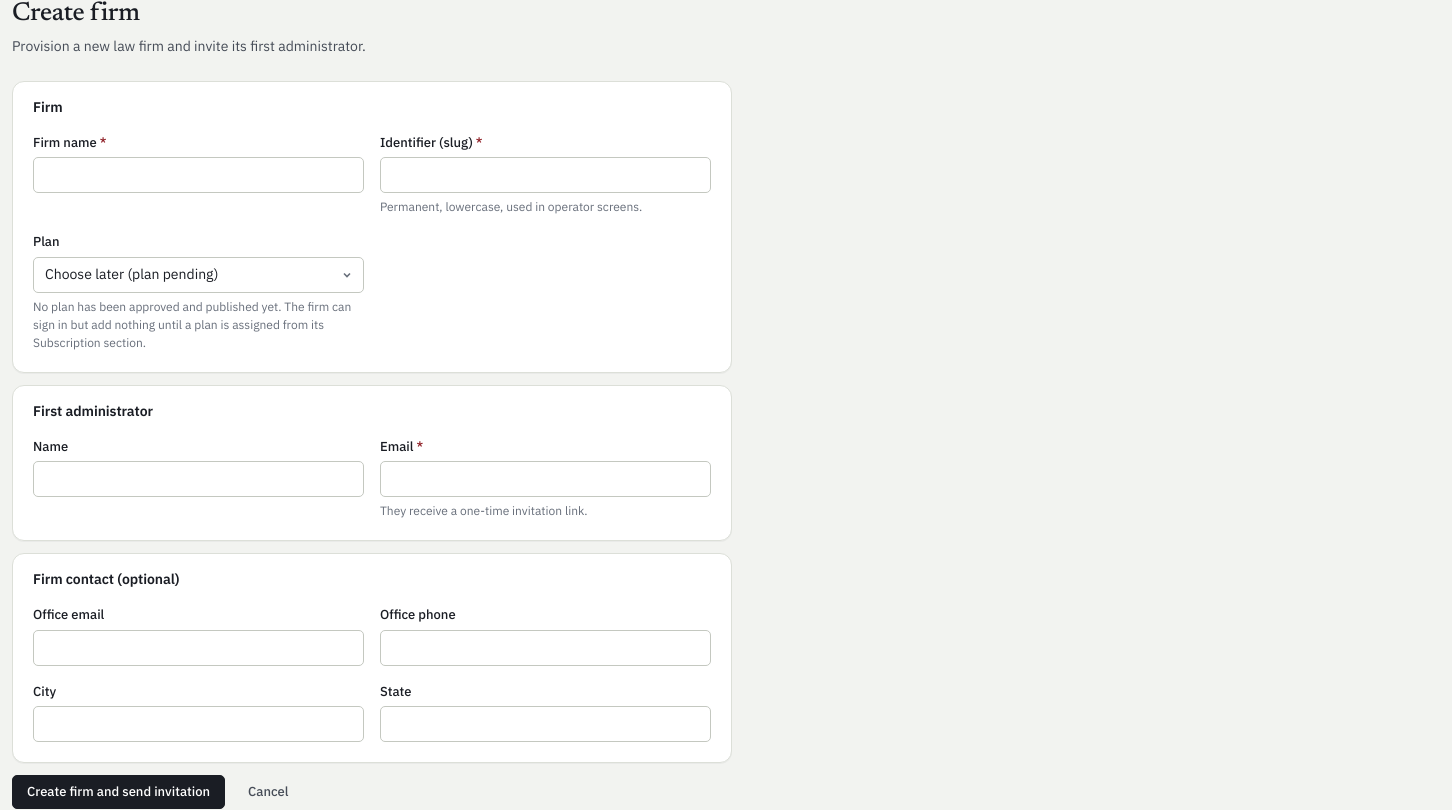
Test: FirmCreate › sends one Idempotency-Key and reuses it when retrying
Type "Kumar" into the field labelled "Firm name *" at (198, 175), box 33,157 -> 364,193
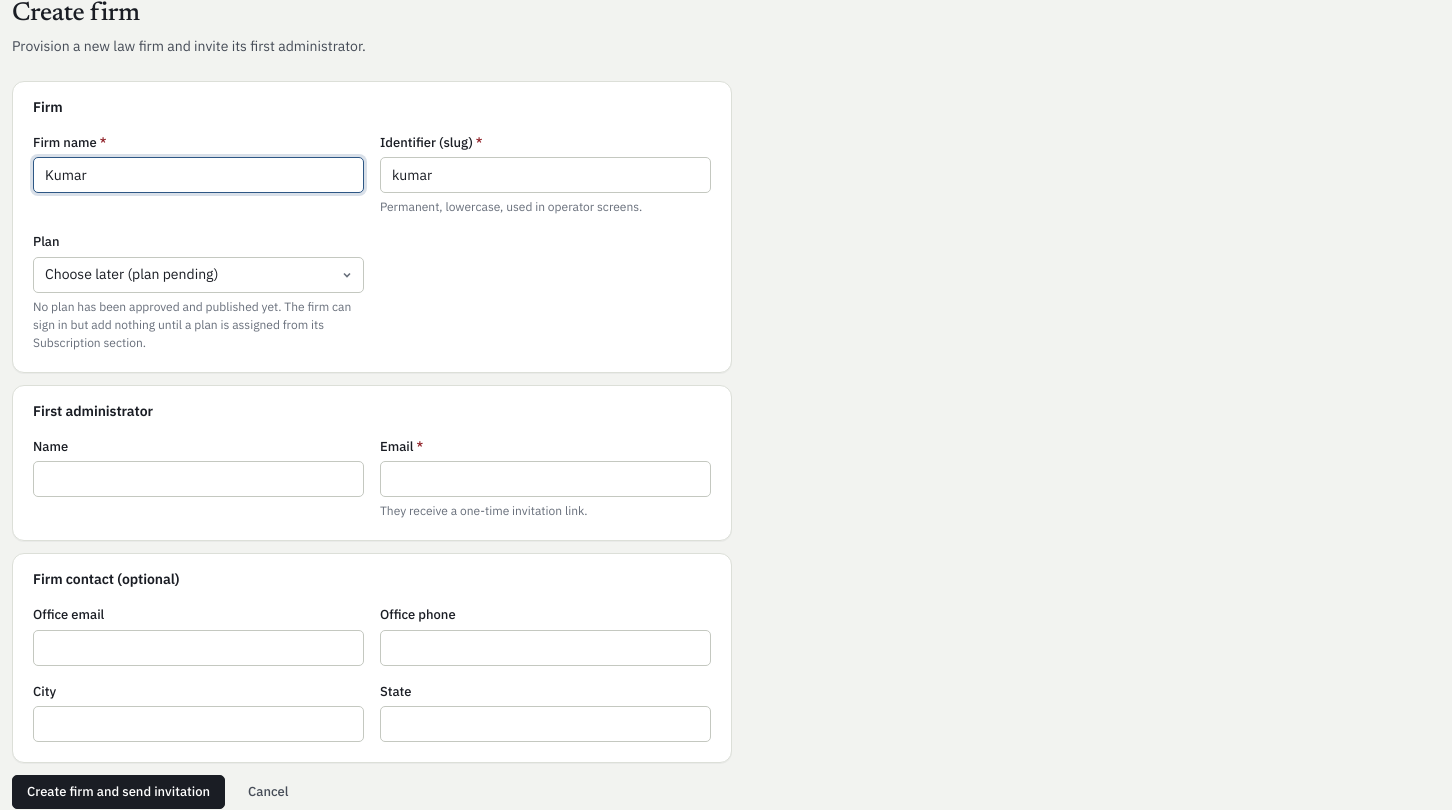
Type "a@k.test" into the field labelled "Email *" at (546, 479), box 380,461 -> 711,497
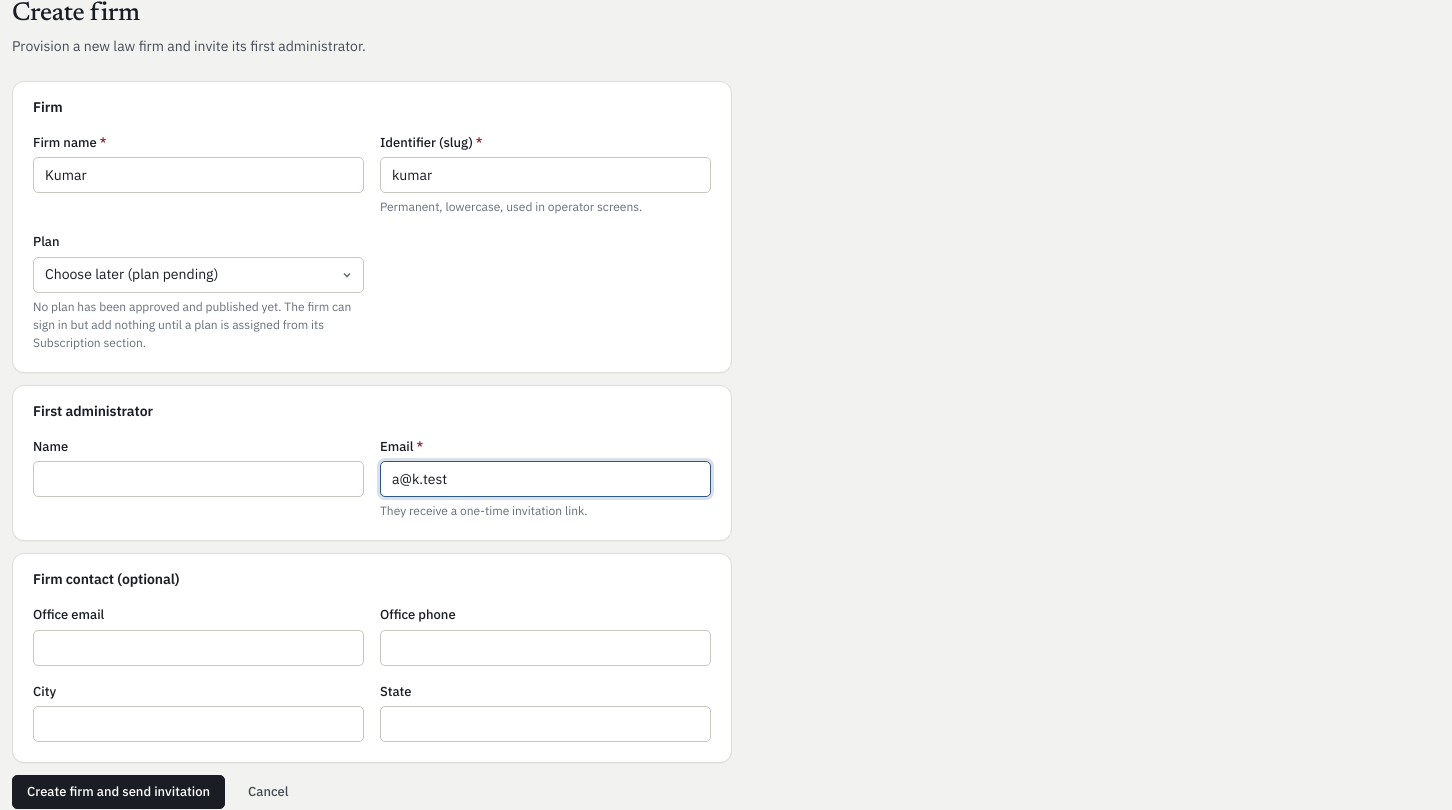
Click the button "Create firm and send invitation" at (118, 792), box 12,775 -> 225,809
(page scrolled)
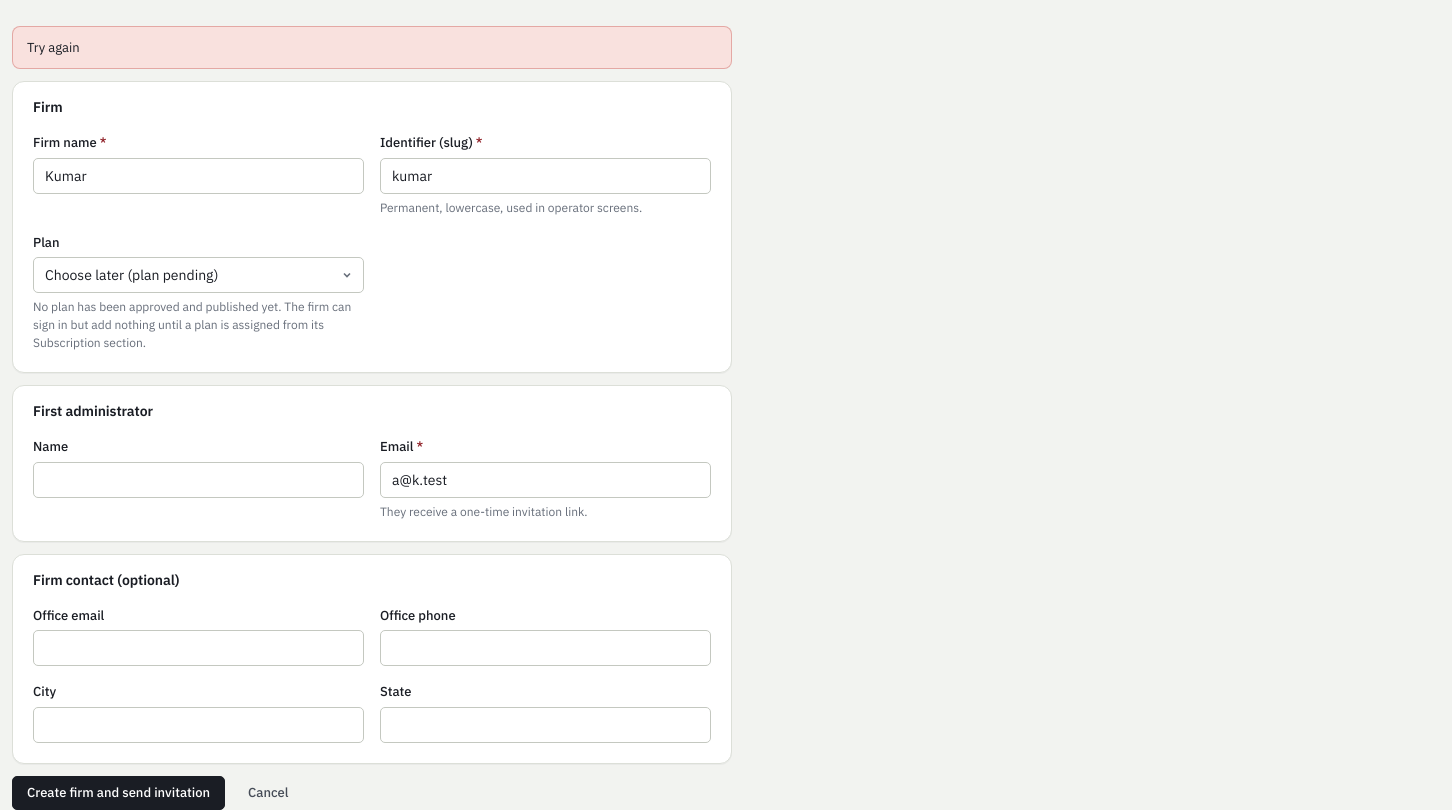
Check: the text "Try again" is shown, box 12,26 -> 732,69
Click the button "Create firm and send invitation" at (118, 793), box 12,776 -> 225,809
(page scrolled)
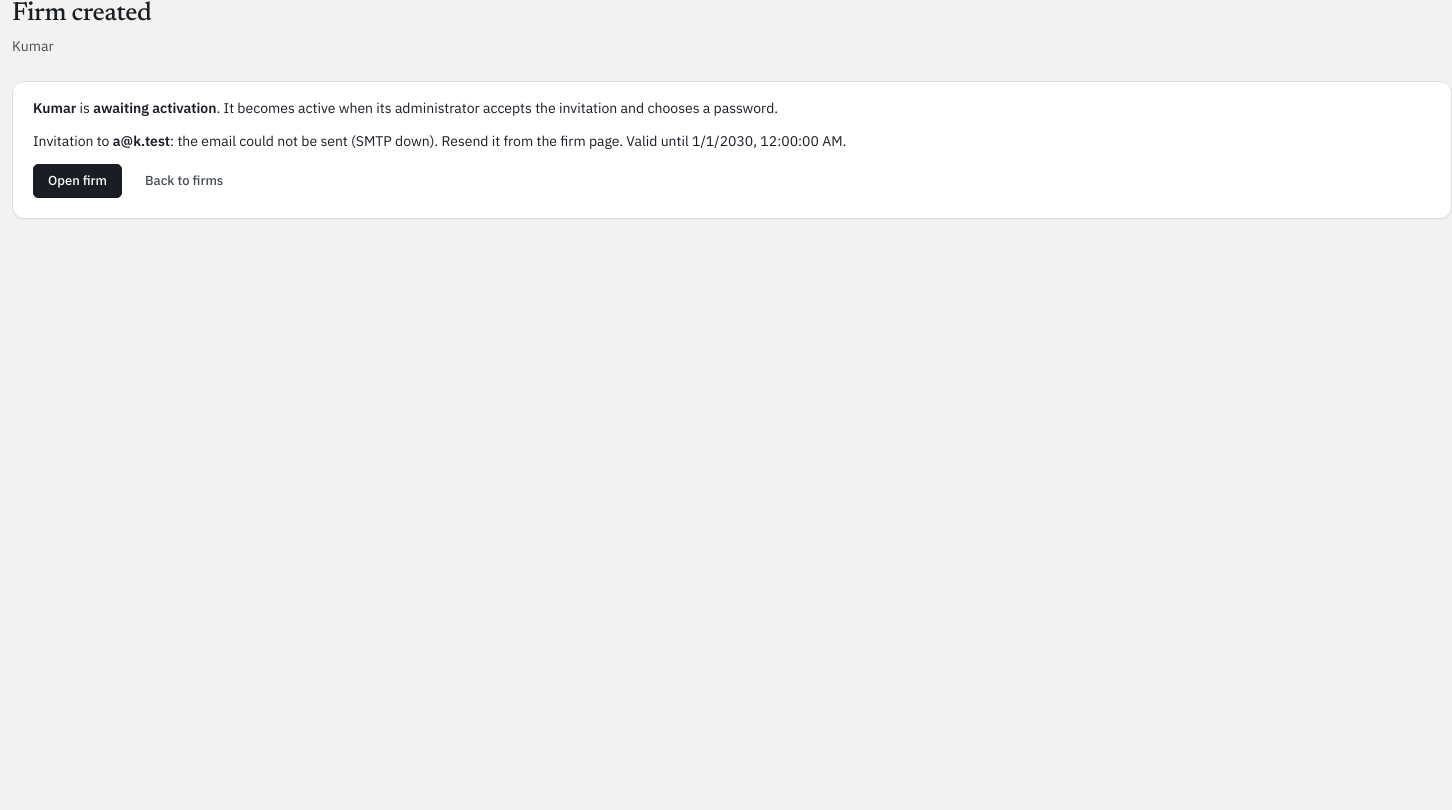
Check: the text "awaiting activation" is shown, box 93,99 -> 216,117
Check: the text "could not be sent" is shown, box 177,132 -> 356,150
